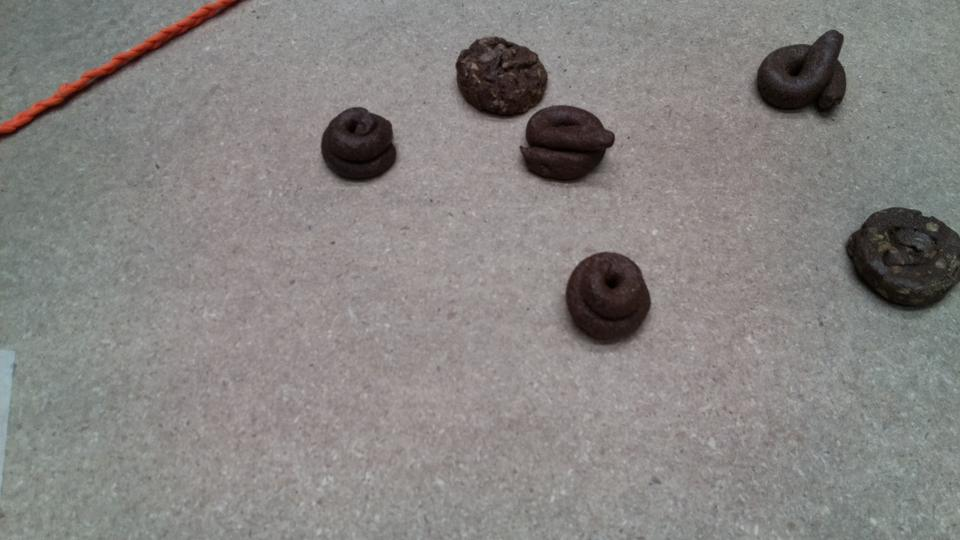poop: (838, 197, 960, 319), (751, 26, 859, 126), (515, 92, 620, 194), (449, 27, 552, 126), (564, 252, 657, 349), (321, 101, 407, 185)
rope: (3, 64, 90, 141), (140, 2, 245, 60), (69, 40, 169, 99)
